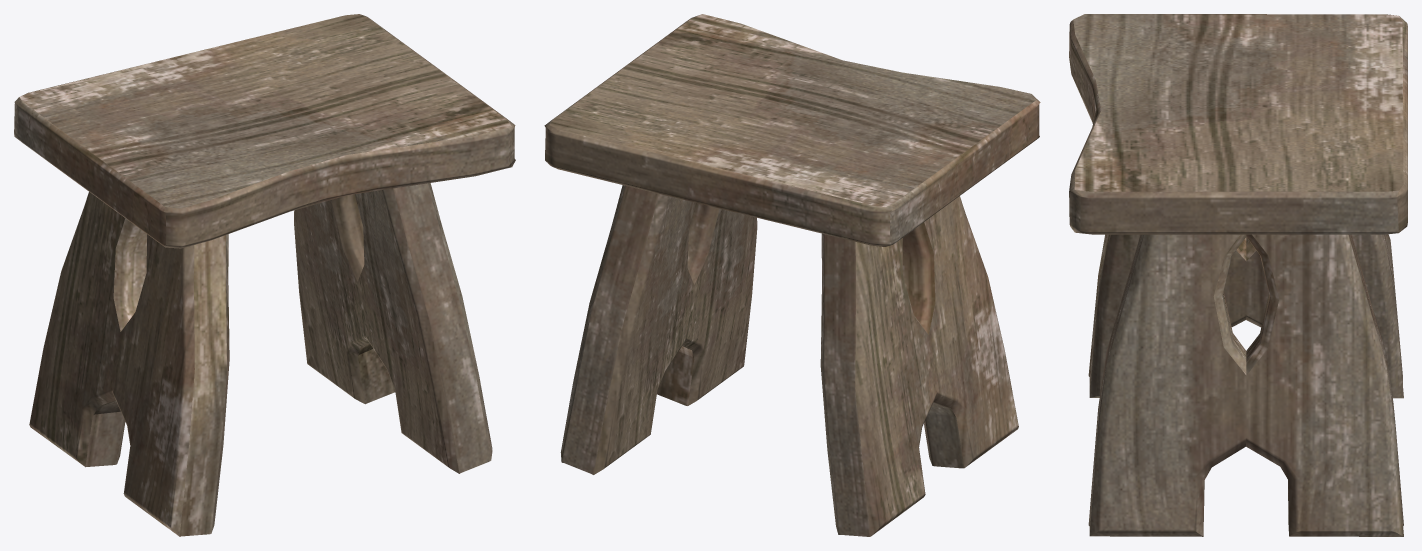
File: SM_Stool_Short.fbx
3 renders of one model, left to right at view 1: azimuth 30°, elevation 25°; view 2: azimuth 150°, elevation 25°; view 3: azimuth 270°, elevation 25°, orthographic. The views are drawn at different scales.
Parts seen in each view (by area): view 1: SM_Stool_Short_LOD0; view 2: SM_Stool_Short_LOD0; view 3: SM_Stool_Short_LOD0.
Part boxes in pixels (x1,y1,x2,y2): SM_Stool_Short_LOD0: (14, 14, 515, 536); SM_Stool_Short_LOD0: (544, 14, 1040, 536); SM_Stool_Short_LOD0: (1069, 14, 1407, 536).
Size of the model in its own units: 51.38 by 40.5 by 47.37.
